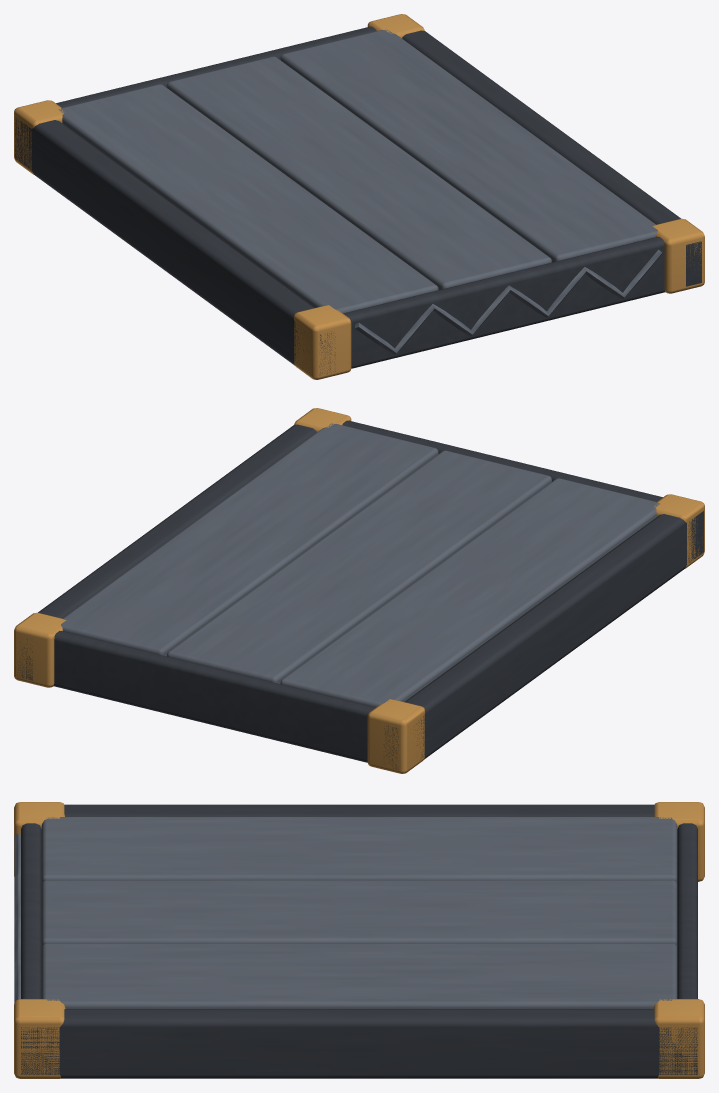
Rendered from EF_T07_IronBridgeDeck.fbx.
3 renders of one model, top to bottom at view 1: azimuth 30°, elevation 25°; view 2: azimuth 150°, elevation 25°; view 3: azimuth 270°, elevation 25°, orthographic. The views are drawn at different scales.
Visible parts, largest first — view 1: Deck, Brackets; view 2: Deck, Brackets; view 3: Deck, Brackets.
Boxes of the visible parts, x1,y1,x2,y2 form: Deck: (15, 26, 701, 374); Brackets: (14, 14, 704, 379); Deck: (17, 420, 703, 769); Brackets: (14, 408, 704, 773); Deck: (14, 804, 697, 1078); Brackets: (14, 802, 704, 1078).
Size of the model in its own units: 3 by 0.4 by 4.
